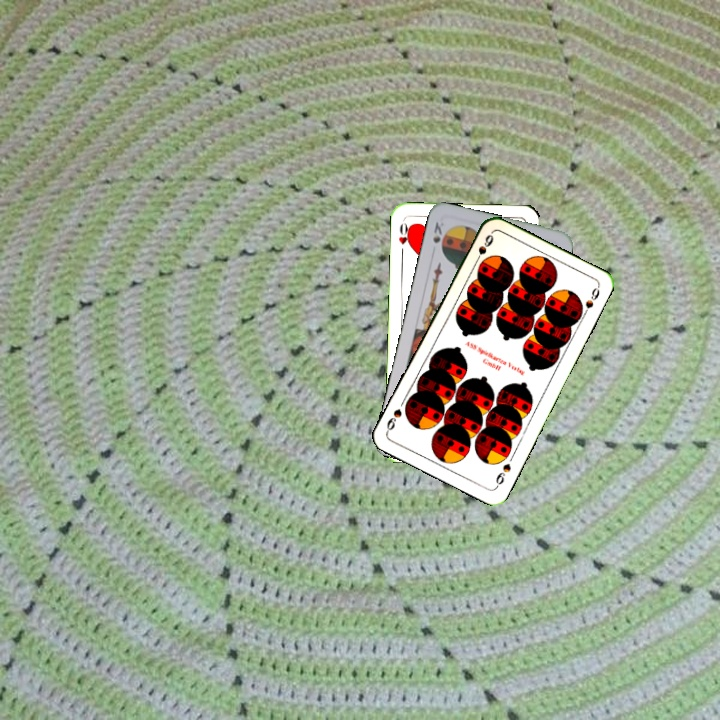HO: (394, 217, 413, 257)
S9: (470, 230, 496, 268), (492, 459, 514, 490)
SK: (429, 218, 446, 246)
